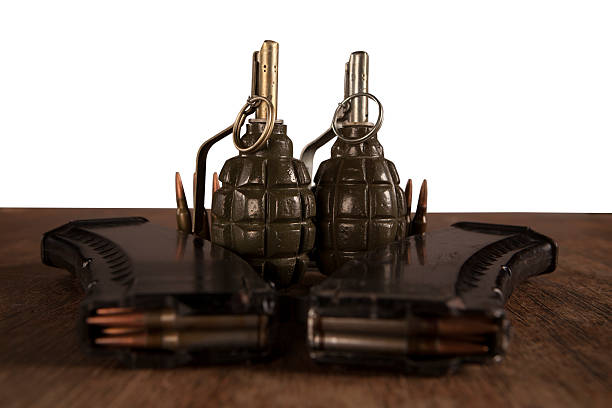e1: (186, 39, 314, 294), (315, 49, 410, 292)
